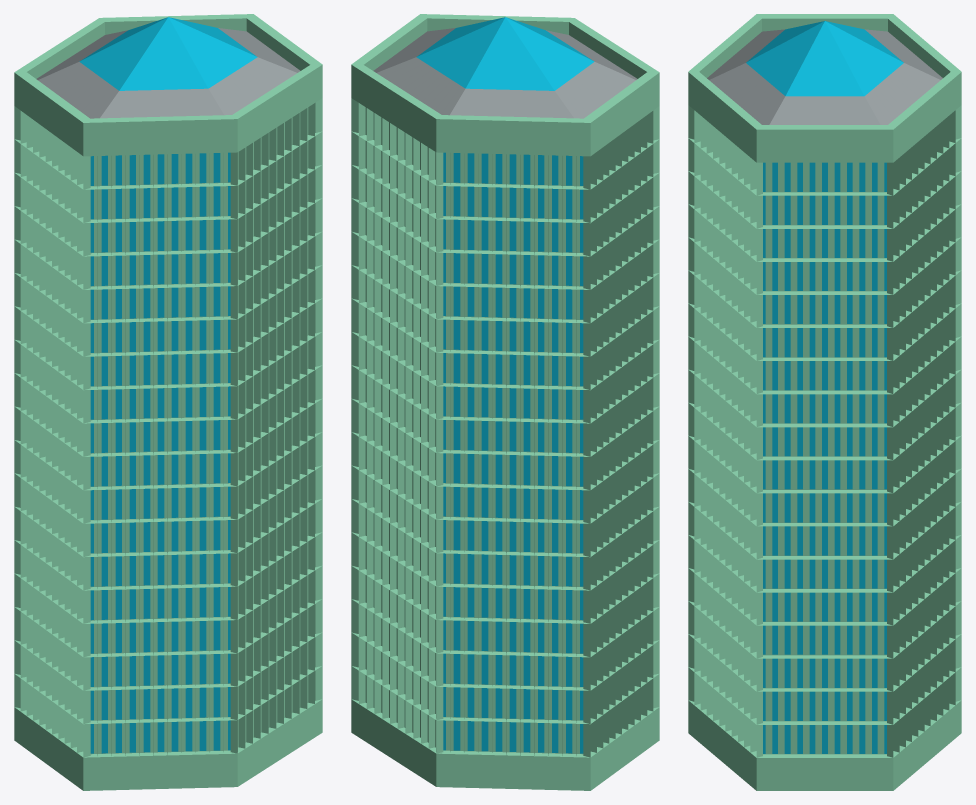
File: skyscraper_3.fbx
The picture shows the model from 3 angles, left to right: view 1: azimuth 30°, elevation 25°; view 2: azimuth 150°, elevation 25°; view 3: azimuth 270°, elevation 25°; orthographic projection.
Parts seen in each view (by area): view 1: Circle; view 2: Circle; view 3: Circle.
Boxes of the visible parts, left/top/right/bottom form: Circle: left=14, top=14, right=322, bottom=790; Circle: left=351, top=14, right=659, bottom=790; Circle: left=688, top=14, right=961, bottom=790.
Bounding box in the file's own units: 1500 × 4307 × 1500.
